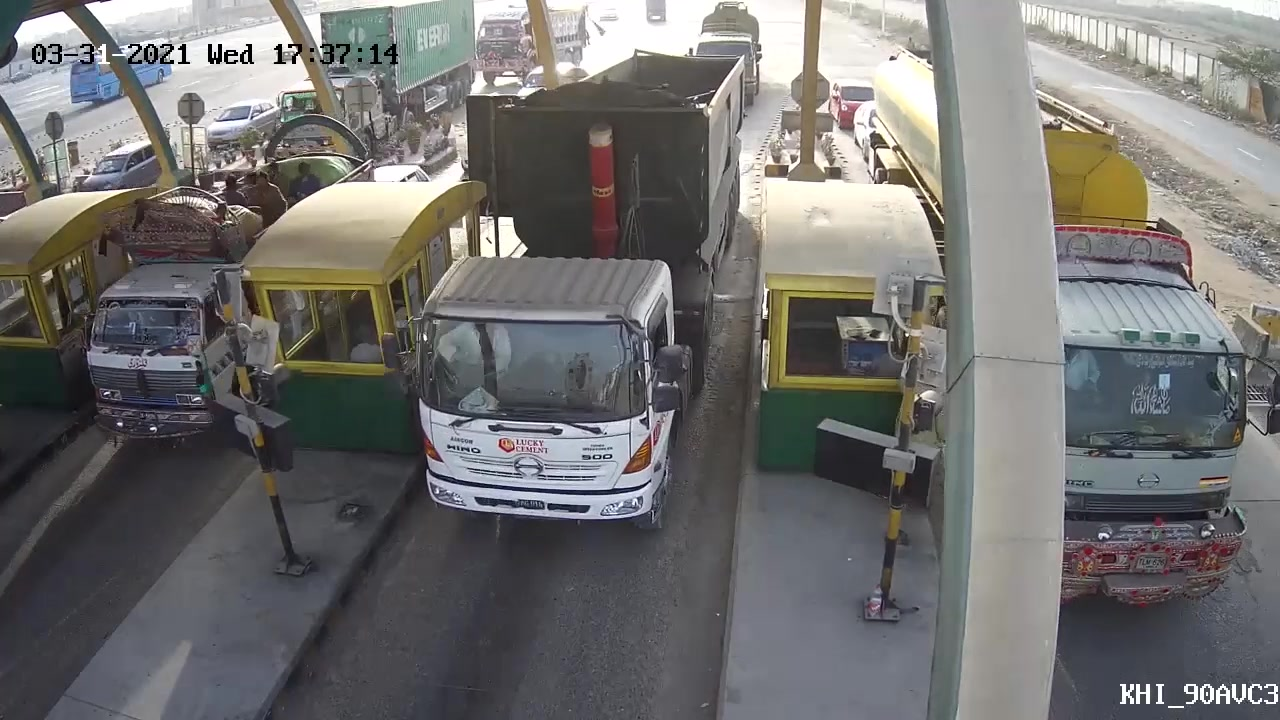F6: (417, 40, 752, 543)
